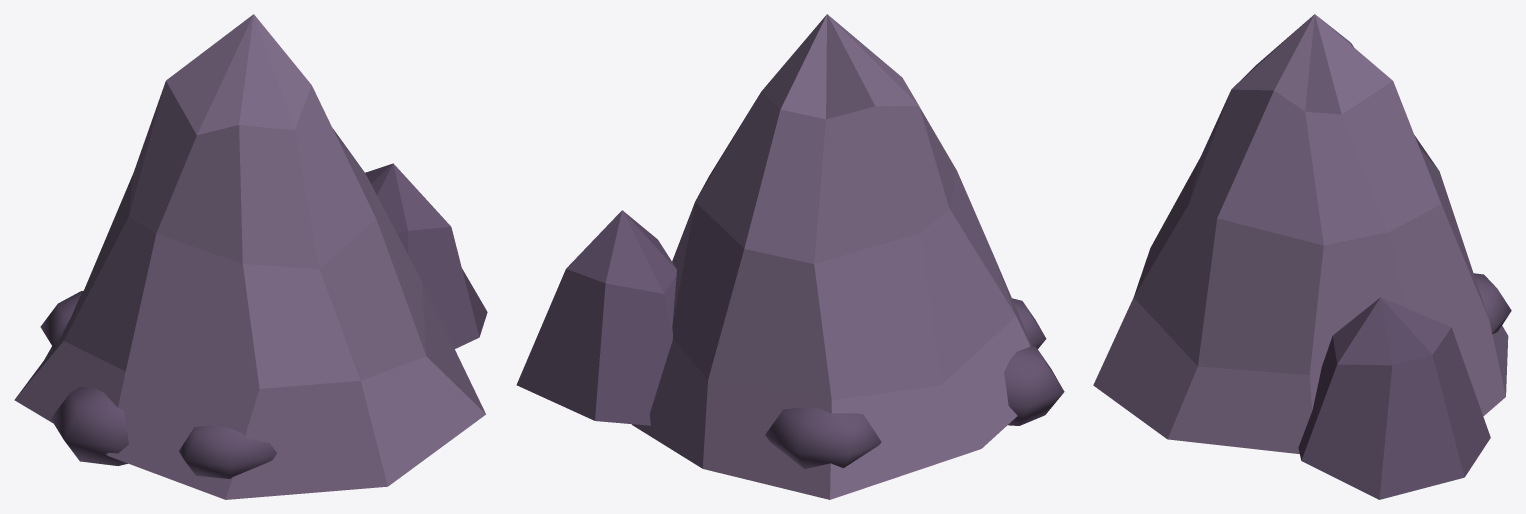
Rendered from v_ab_spire_low.glb.
3 views of the same model, side by side, from view 1: azimuth 30°, elevation 25°; view 2: azimuth 150°, elevation 25°; view 3: azimuth 270°, elevation 25° (orthographic). The views are drawn at different scales.
Parts seen in each view (by area): view 1: Stalagmite; view 2: Stalagmite; view 3: Stalagmite.
Part boxes in pixels (left/top/right/bottom): Stalagmite: left=14, top=14, right=487, bottom=499; Stalagmite: left=516, top=14, right=1064, bottom=499; Stalagmite: left=1093, top=14, right=1511, bottom=499.
Size of what is drawn, in the model's own units: 1.74 by 1.37 by 1.39.
